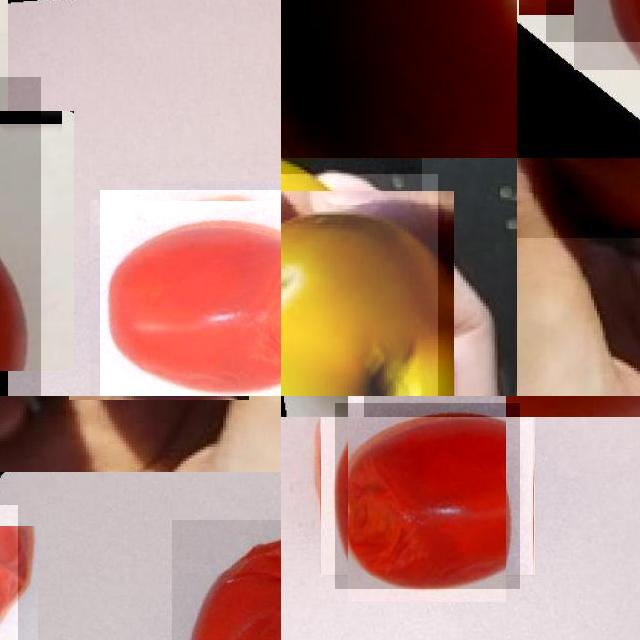1: (99, 190, 281, 396), (335, 403, 520, 589)
Fresh Tomato: (281, 0, 517, 158)
Rotten Tomato: (281, 174, 438, 396), (172, 519, 281, 640), (517, 158, 640, 238)
